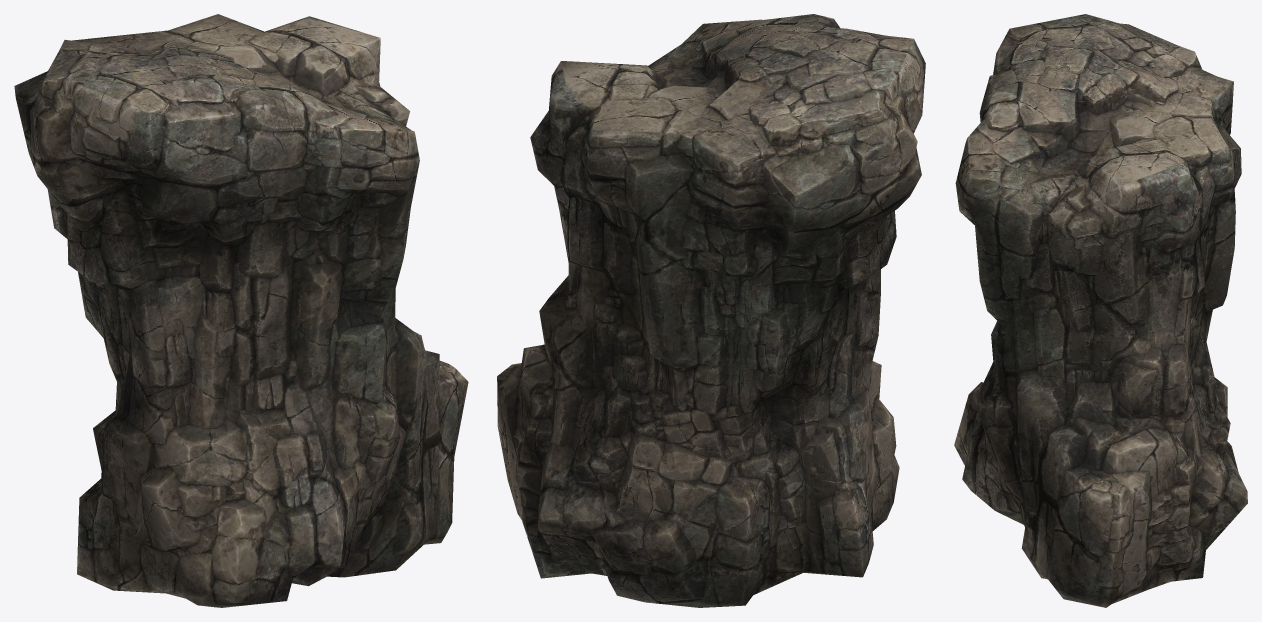
Rendered from Rock-5A.fbx.
3 views of the same model, side by side, from view 1: azimuth 30°, elevation 25°; view 2: azimuth 150°, elevation 25°; view 3: azimuth 270°, elevation 25° (orthographic). The views are drawn at different scales.
Parts seen in each view (by area): view 1: polySurface250; view 2: polySurface250; view 3: polySurface250.
Boxes of the visible parts, left/top/right/bottom form: polySurface250: left=14, top=14, right=468, bottom=607; polySurface250: left=497, top=14, right=925, bottom=607; polySurface250: left=954, top=14, right=1247, bottom=607.
Size of the model in its own units: 962 by 1187 by 700.
1 material, 1 textured.
